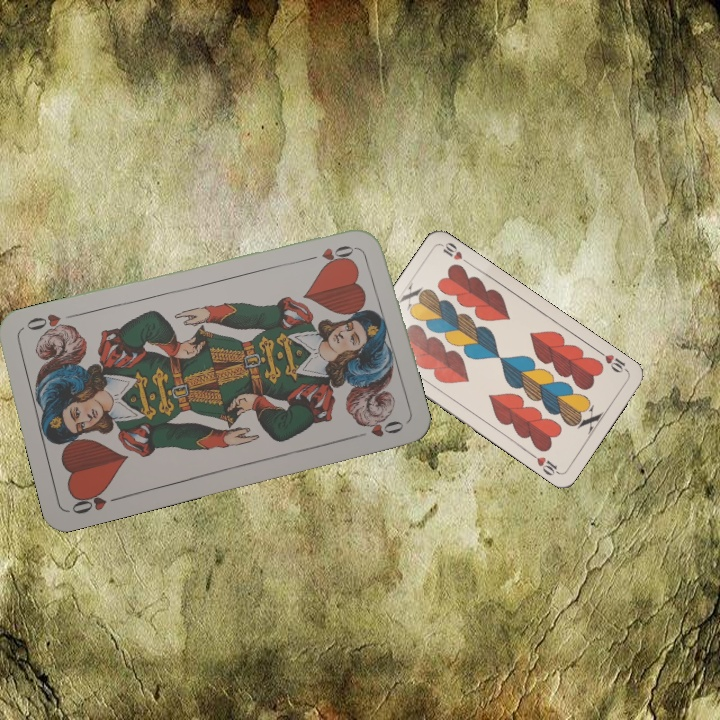H10: (595, 347, 630, 375)
HO: (67, 486, 125, 517), (302, 241, 361, 265)
